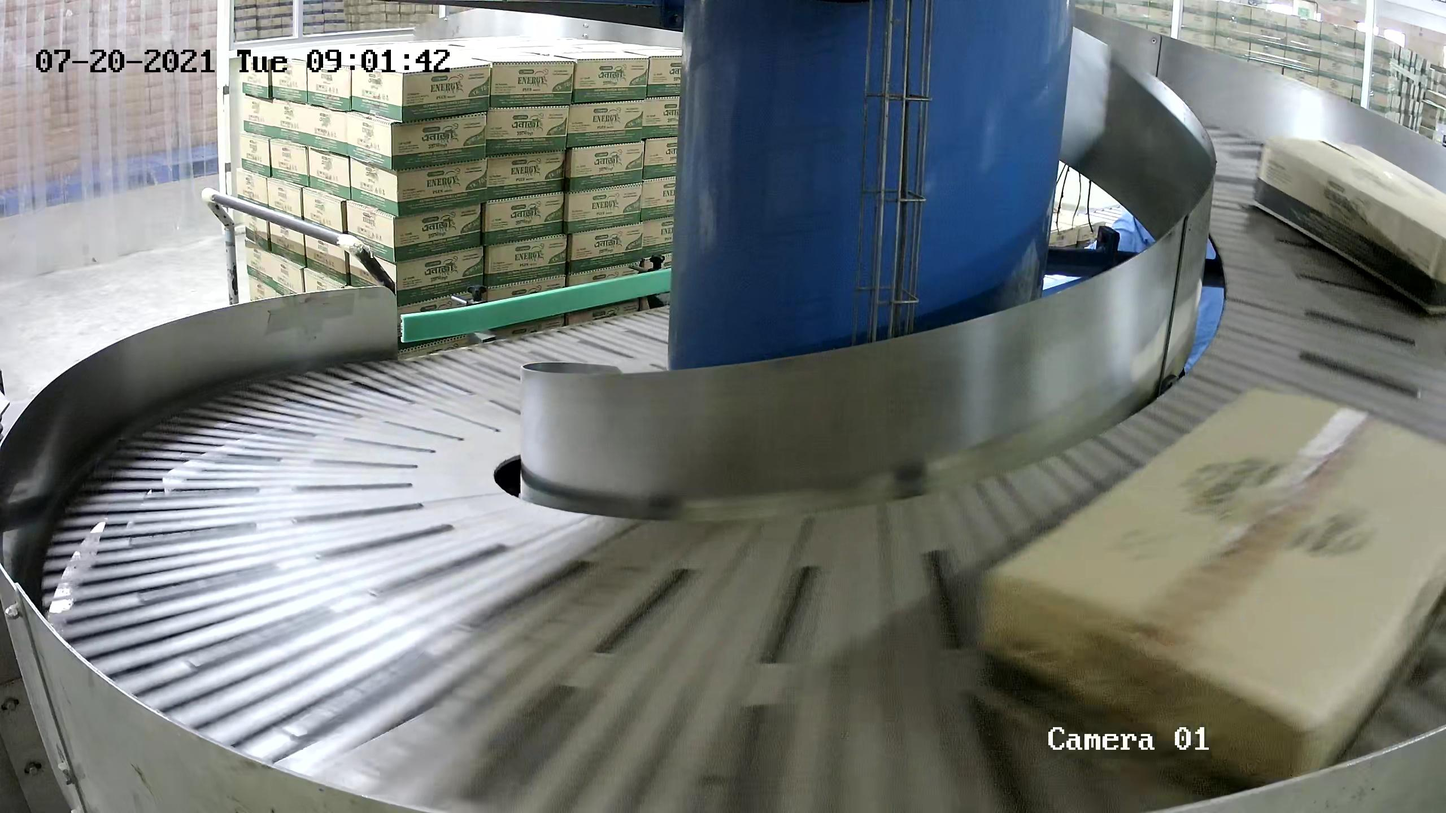Box: (971, 382, 1446, 812), (1250, 135, 1446, 317)
